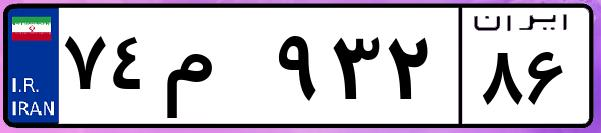2: (385, 28, 445, 110)
3: (330, 28, 385, 110)
4: (110, 28, 158, 98)
6: (525, 38, 570, 115)
7: (57, 26, 110, 100)
8: (475, 38, 525, 113)
9: (270, 28, 330, 110)
م: (158, 20, 270, 120)
